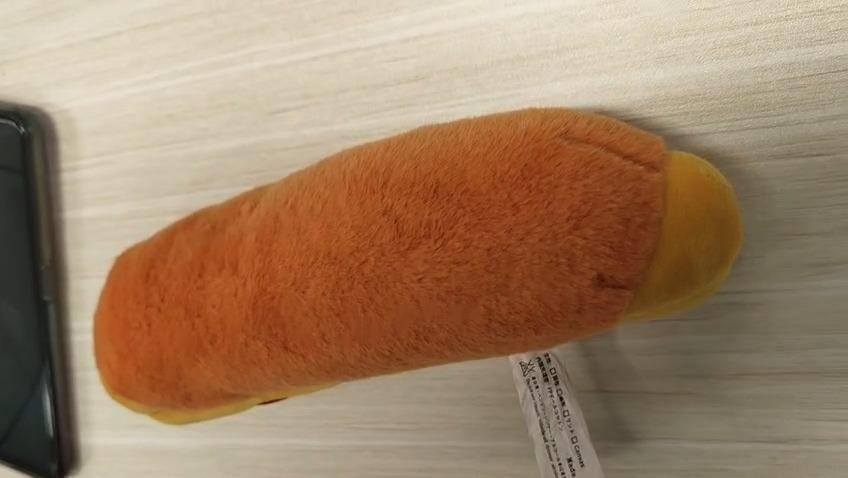hotdog: (88, 108, 743, 426)
